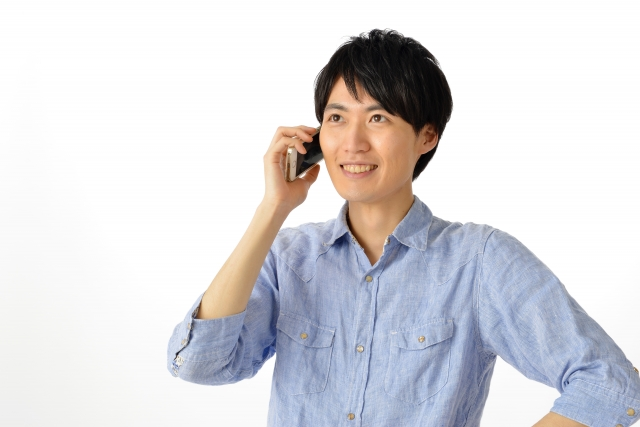phone: (266, 119, 328, 191)
talk: (260, 99, 398, 210)
